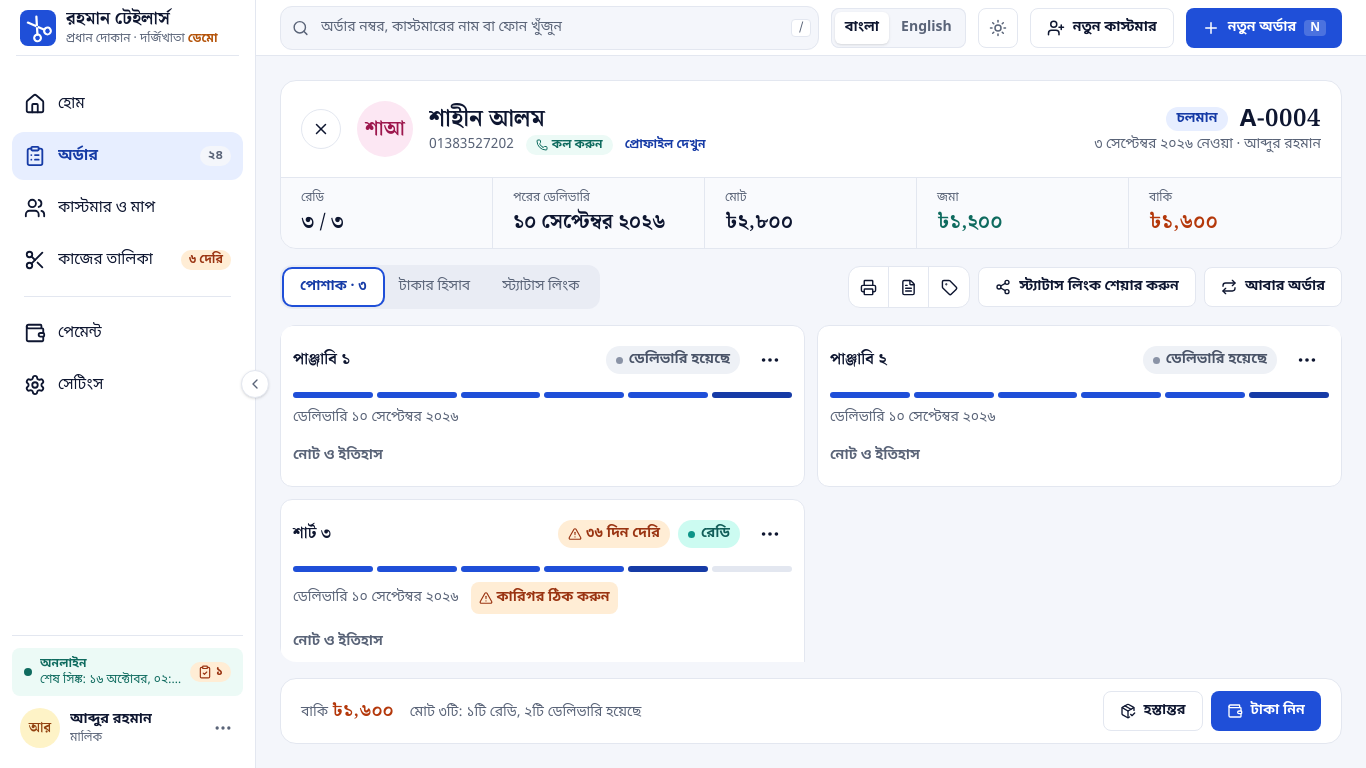
Test: Desktop order page › shows one section at a time under tabs that the arrow keys move between, and Share opens the status link
Step 1. Press Arrowright
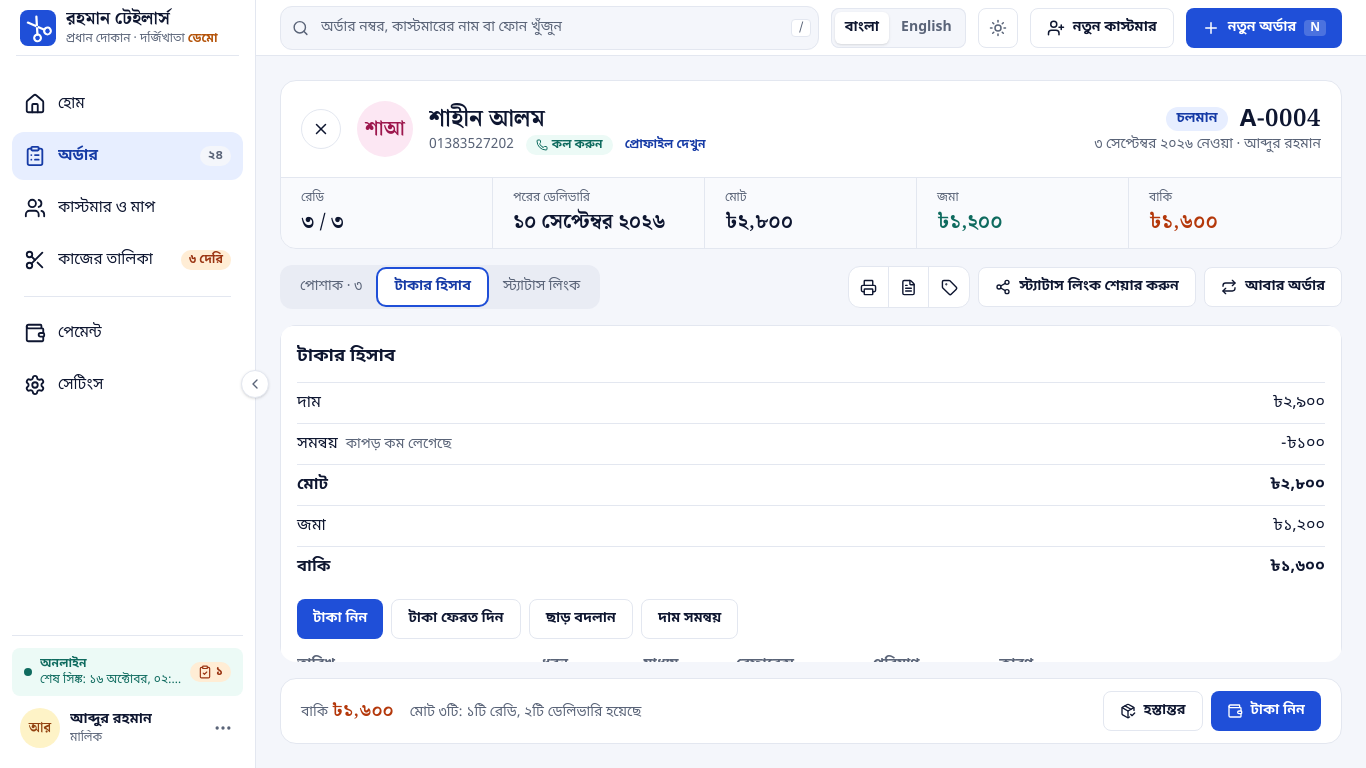
Now the element "টাকার হিসাব" is shown, box [280,325,1342,662]
Step 2. Click the button "স্ট্যাটাস লিংক শেয়ার করুন" → (1087, 287), box [978,267,1196,307]
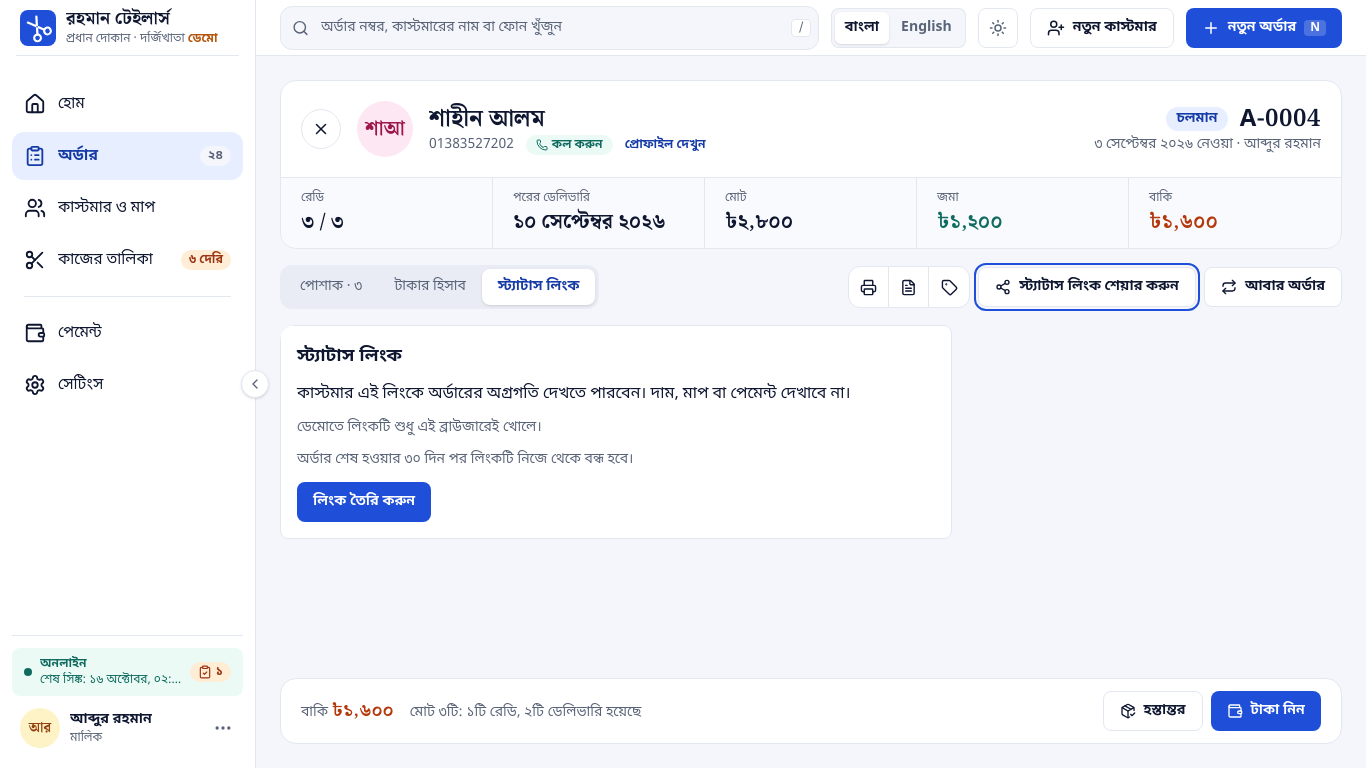
Now the element "স্ট্যাটাস লিংক" is shown, box [280,325,952,539]
